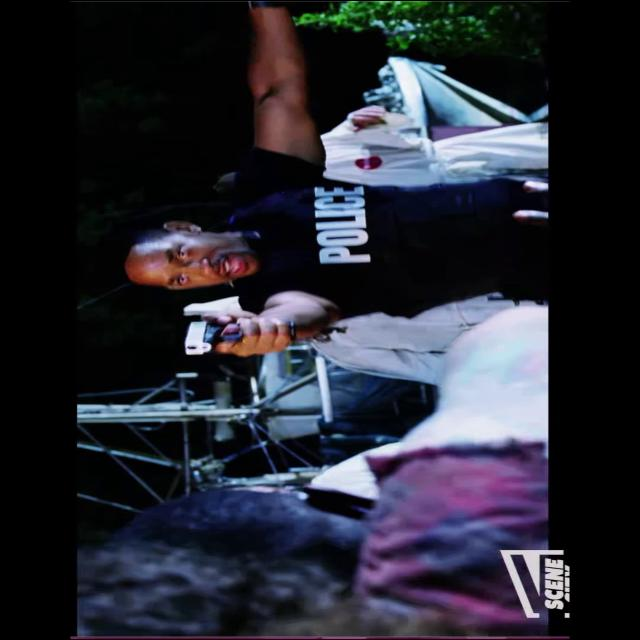weapons: (170, 304, 302, 362)
